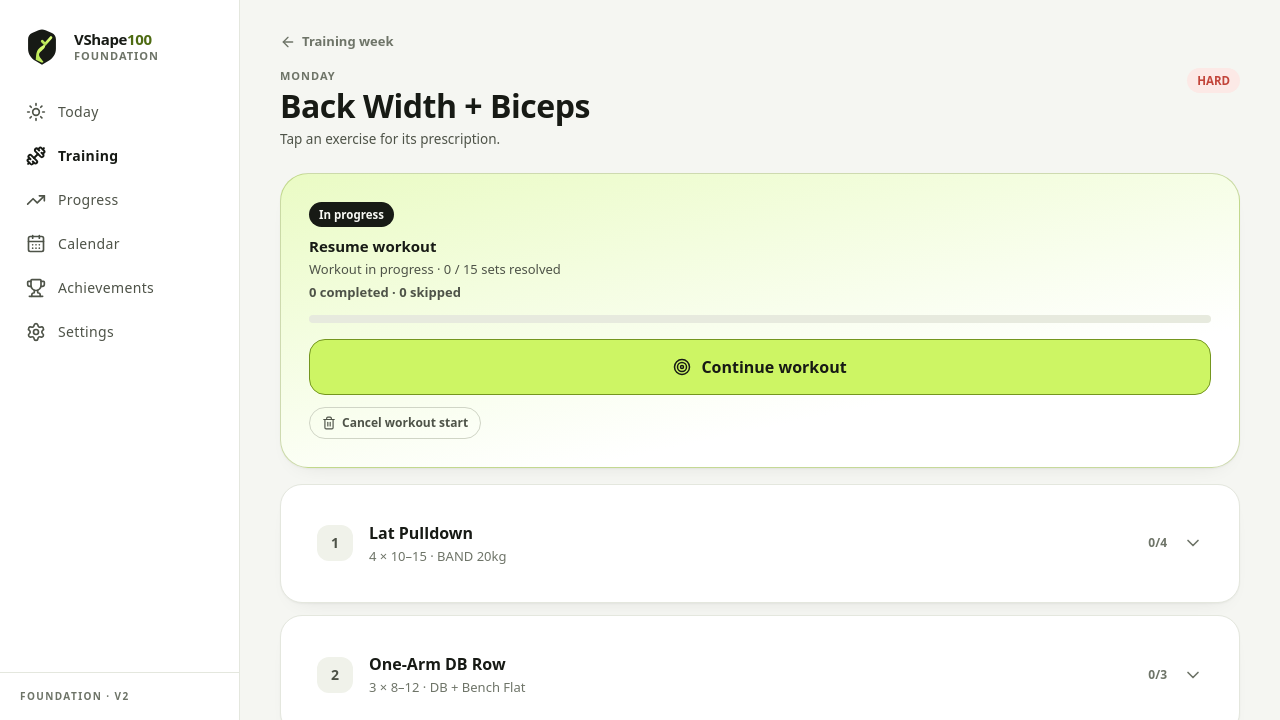
2. entering focused mode is a read › makes no write of any kind
The width and height of the screenshot is (1280, 720).
Expected: the heading "Back Width + Biceps" is shown, [280, 88, 590, 125]
Click the button "Continue workout".
click(760, 367)  # box [309, 339, 1211, 395]
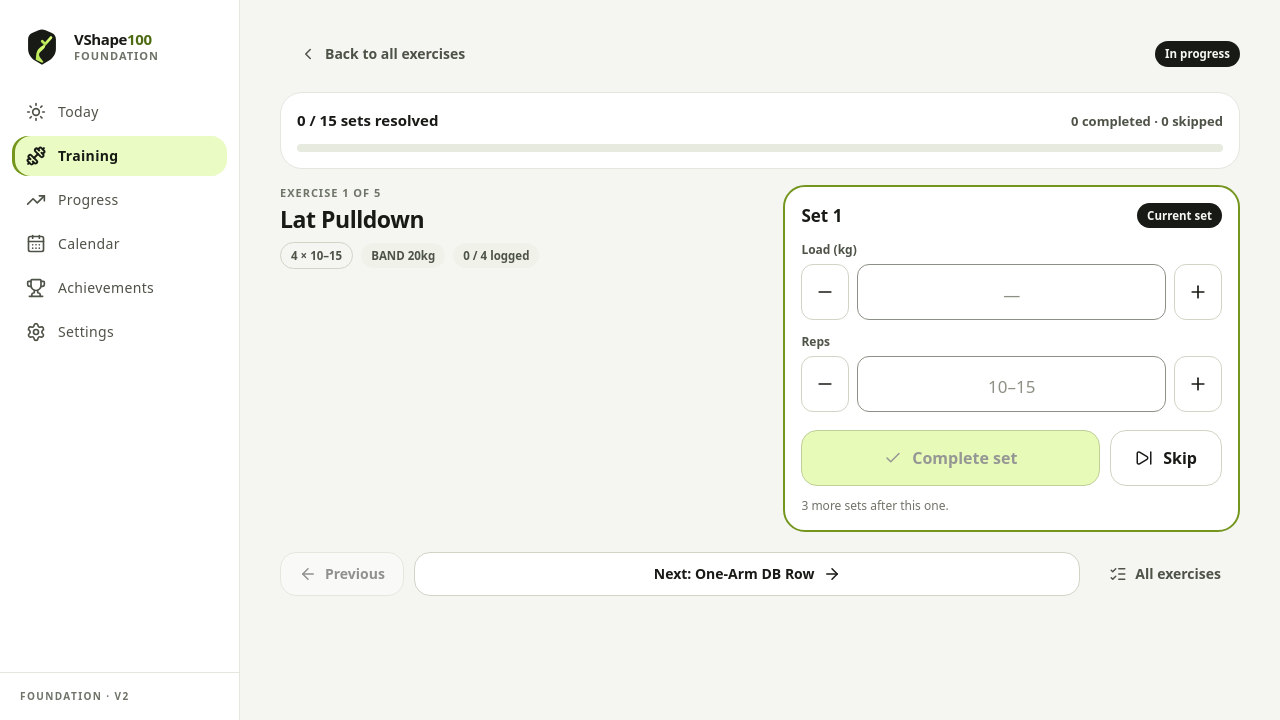
Expected: the text "Exercise 1 of 5" is shown, [280, 184, 381, 200]
